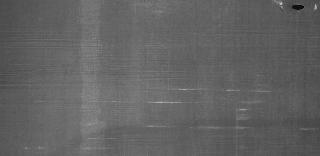punching hole: (290, 3, 306, 11)
